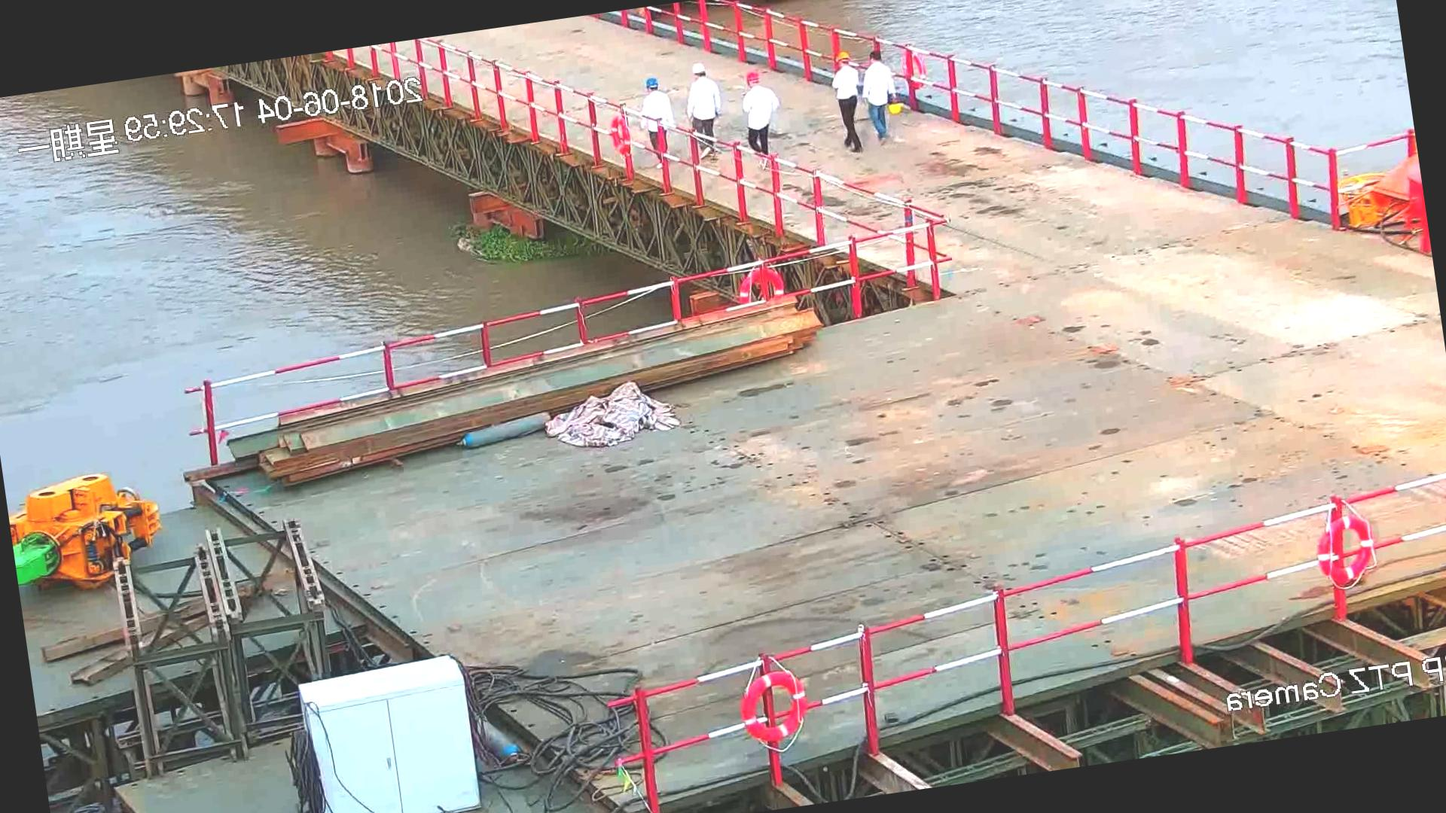no_vest: (734, 82, 779, 142), (681, 78, 723, 139), (857, 61, 897, 116), (638, 92, 677, 147)
person: (728, 59, 789, 173), (631, 67, 685, 180), (676, 59, 731, 169), (856, 41, 902, 153), (824, 50, 870, 156)
